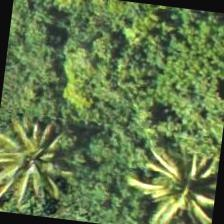Kelapa_Sawit: (135, 134, 221, 223), (0, 111, 76, 211)
